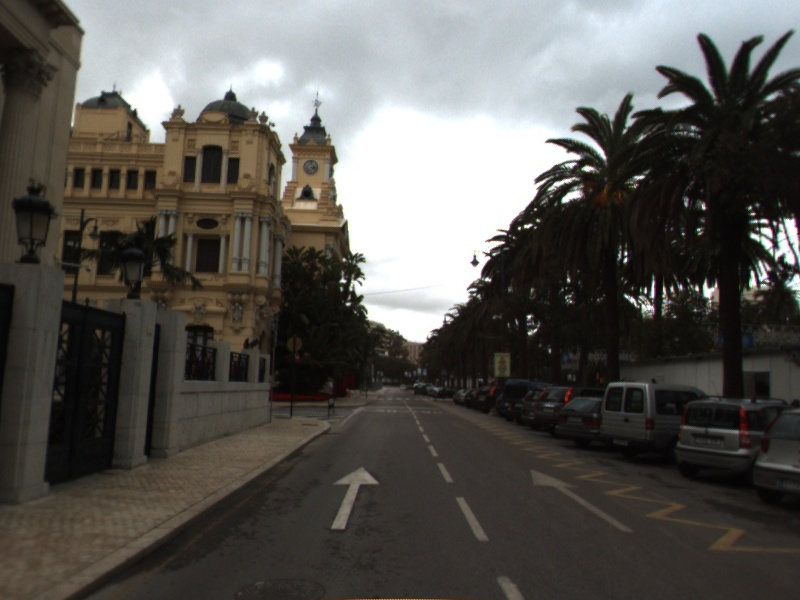STRAIGHT: (528, 467, 637, 534), (328, 464, 382, 532)
